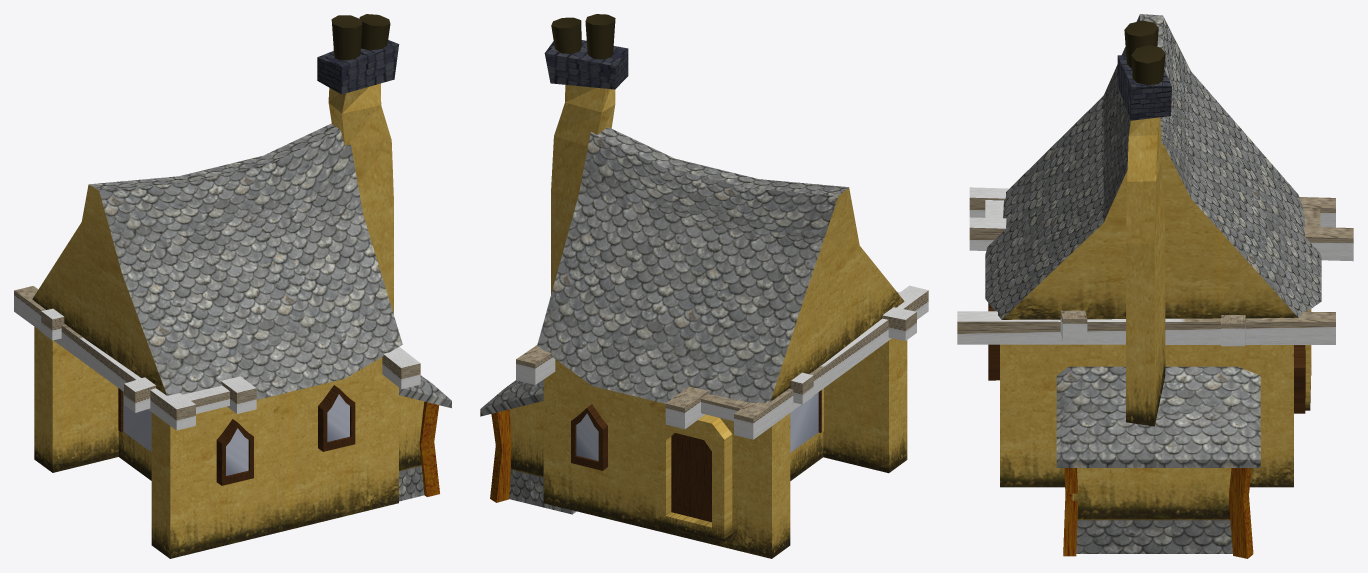
Rendered from maison01.FBX.
3 views of the same model, side by side, from view 1: azimuth 30°, elevation 25°; view 2: azimuth 150°, elevation 25°; view 3: azimuth 270°, elevation 25° (orthographic). The views are drawn at different scales.
Visible parts, largest first — view 1: maison01; view 2: maison01; view 3: maison01.
Part boxes in pixels (bbox=[...]): maison01: bbox=[14, 14, 451, 558]; maison01: bbox=[480, 14, 928, 558]; maison01: bbox=[957, 14, 1353, 558].
Size of the model in its own units: 4.21 by 5.61 by 4.04.
